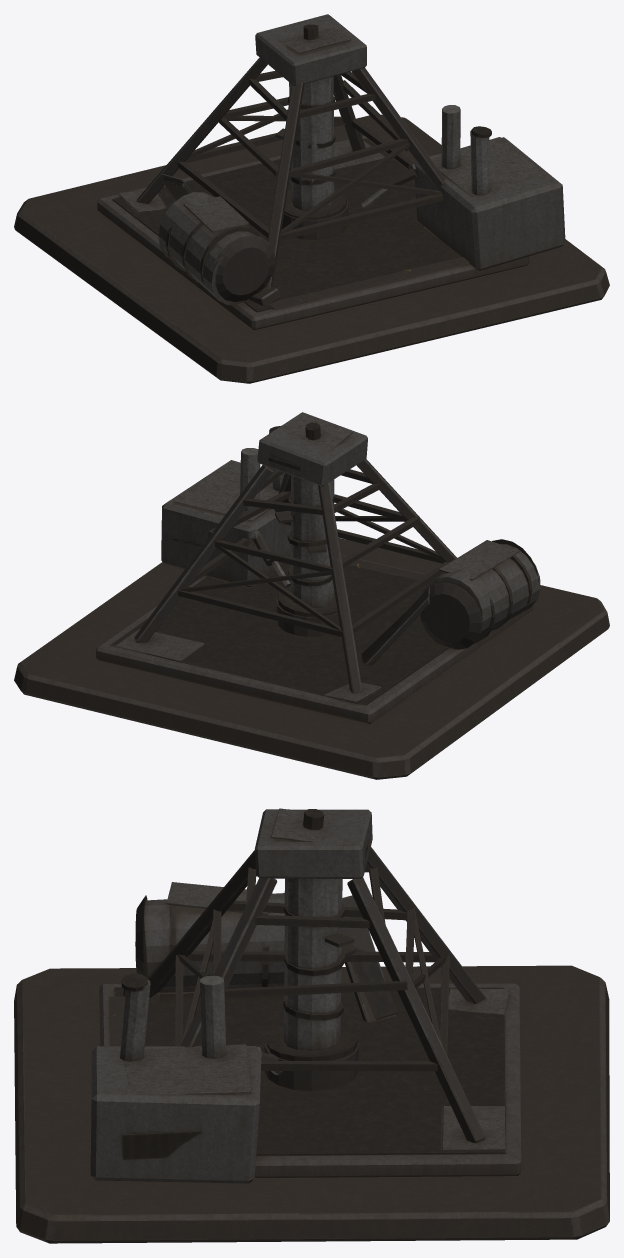
File: chs_extractor_wreck.fbx
The picture shows the model from 3 angles, top to bottom: view 1: azimuth 30°, elevation 25°; view 2: azimuth 150°, elevation 25°; view 3: azimuth 270°, elevation 25°; orthographic projection. The views are drawn at different scales.
Visible parts, largest first — view 1: base_bar, drill_bar; view 2: base_bar, drill_bar; view 3: base_bar, drill_bar.
Part boxes in pixels (left/top/right/bottom): base_bar: left=14, top=14, right=609, bottom=383; drill_bar: left=275, top=76, right=348, bottom=239; base_bar: left=14, top=412, right=609, bottom=779; drill_bar: left=275, top=475, right=339, bottom=636; base_bar: left=14, top=808, right=609, bottom=1243; drill_bar: left=264, top=878, right=358, bottom=1091.
Size of the model in its own units: 1559 by 1077 by 1556.
2 materials, 2 textured.
